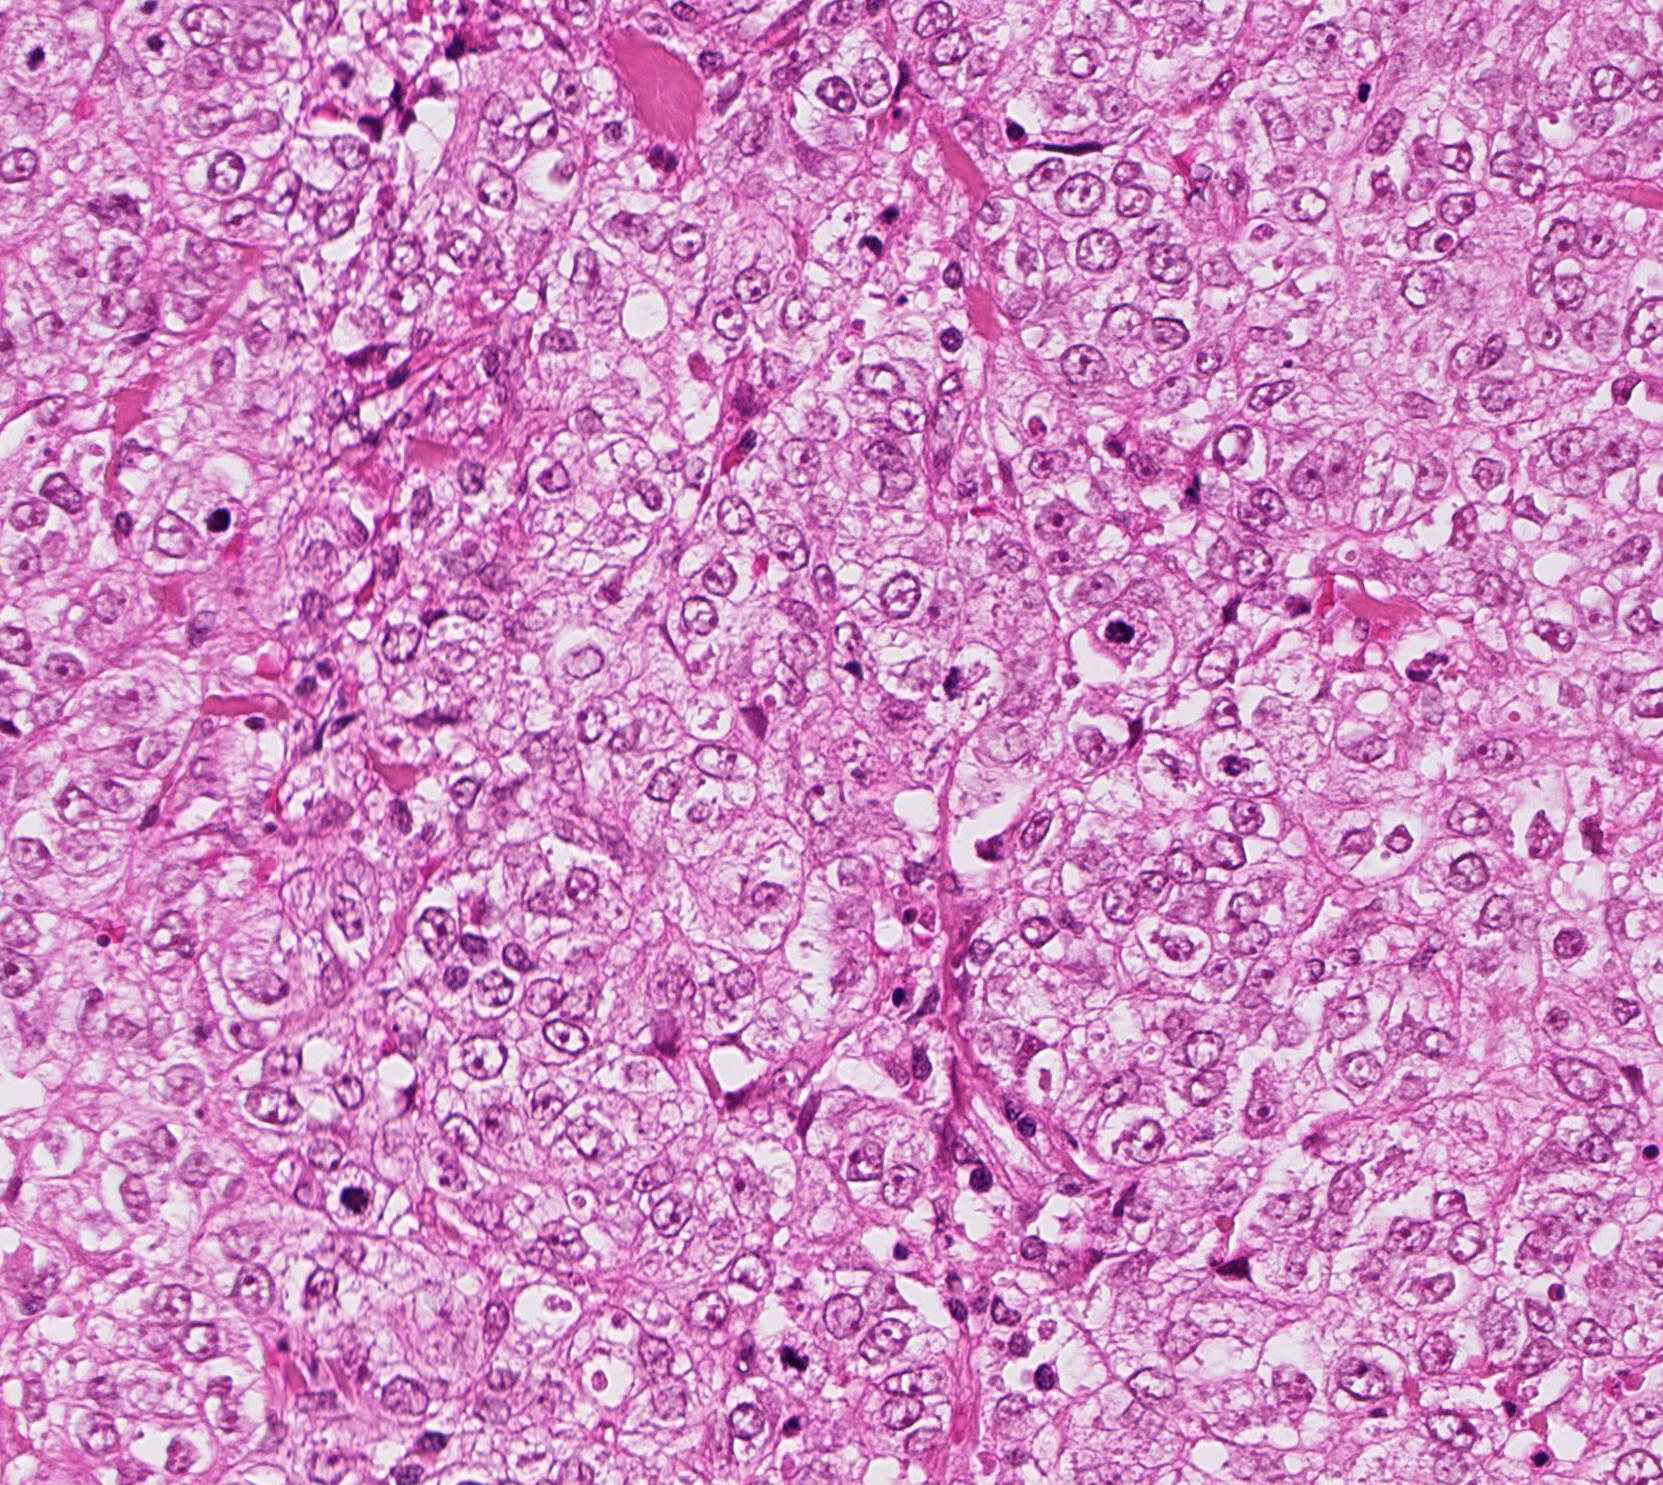mitosis: (1082, 593, 1143, 654), (321, 1162, 381, 1223), (834, 209, 895, 269), (918, 654, 976, 714)
